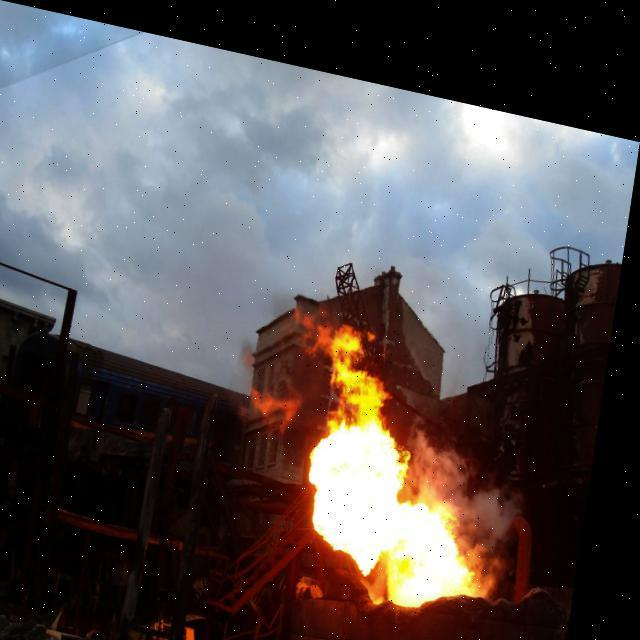Fire: (294, 294, 524, 605)
